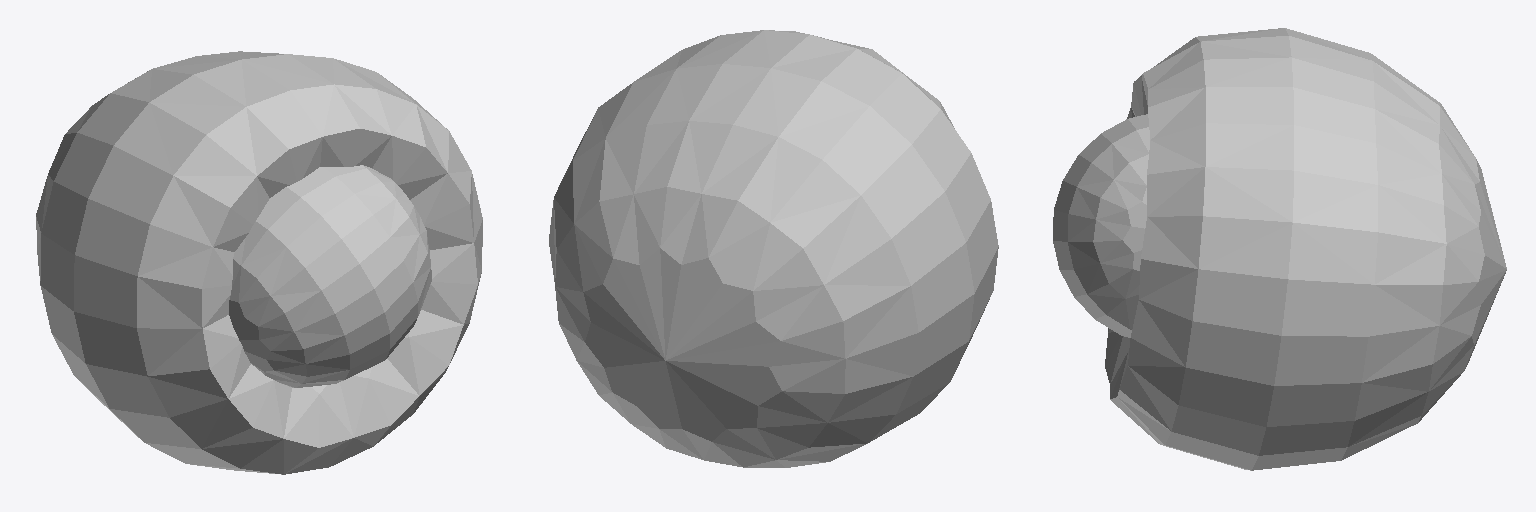
File: 1eye.obj
3 renders of one model, left to right at view 1: azimuth 30°, elevation 25°; view 2: azimuth 150°, elevation 25°; view 3: azimuth 270°, elevation 25°, orthographic.
Visible parts, largest first — view 1: polySurface2 animal:Mesh polySurface14, polySurface13 polySurface2 animal:Mesh; view 2: polySurface2 animal:Mesh polySurface14; view 3: polySurface2 animal:Mesh polySurface14, polySurface13 polySurface2 animal:Mesh.
Part boxes in pixels (bbox=[...]): polySurface2 animal:Mesh polySurface14: bbox=[36, 51, 482, 474]; polySurface13 polySurface2 animal:Mesh: bbox=[229, 165, 431, 387]; polySurface2 animal:Mesh polySurface14: bbox=[549, 30, 998, 467]; polySurface2 animal:Mesh polySurface14: bbox=[1105, 28, 1506, 470]; polySurface13 polySurface2 animal:Mesh: bbox=[1053, 114, 1149, 337].
Bounding box in the file's own units: 1.85 × 1.76 × 1.87.